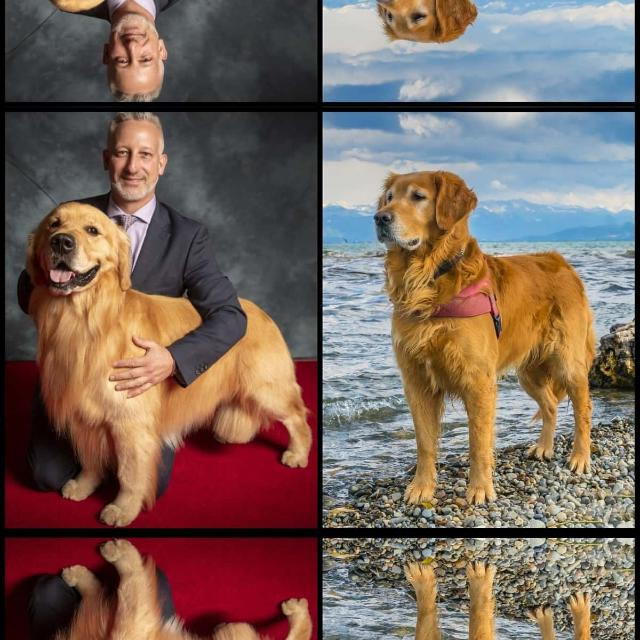dog: (361, 157, 619, 507), (12, 212, 296, 486), (361, 559, 619, 640), (12, 579, 296, 640), (361, 0, 619, 55)
person: (87, 106, 215, 274), (87, 0, 215, 106)
